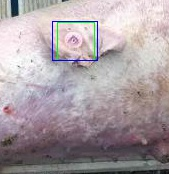text: (57, 22, 94, 60)
